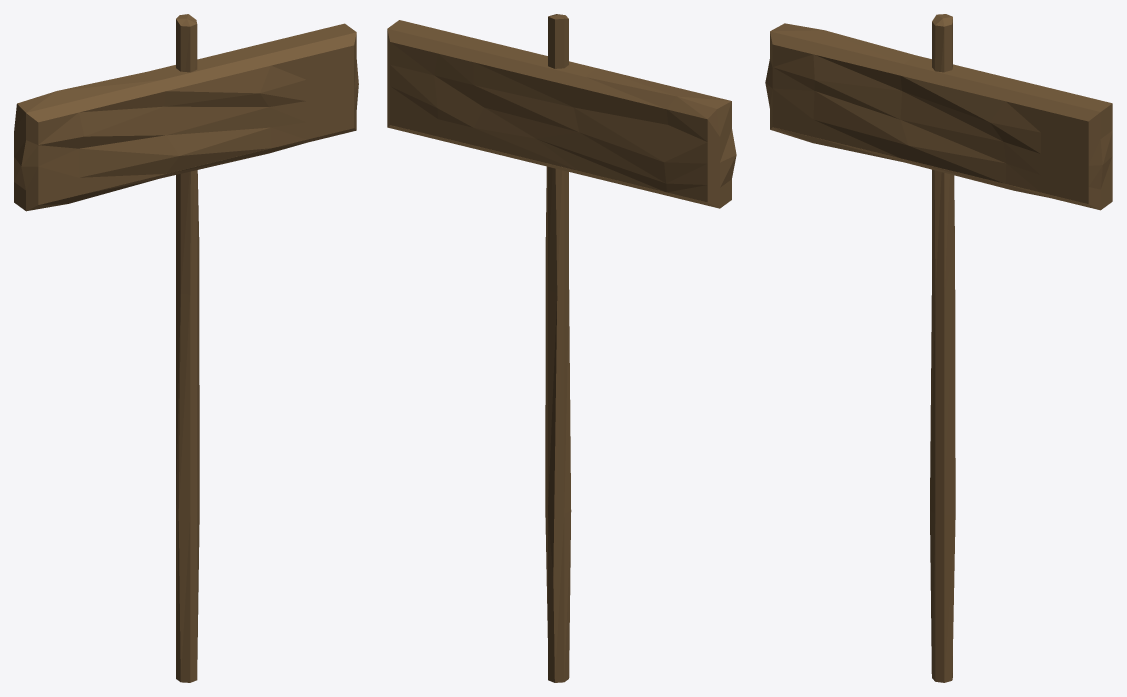
The model's file is Holzschild.fbx.
3 views of the same model, side by side, from view 1: azimuth 30°, elevation 25°; view 2: azimuth 150°, elevation 25°; view 3: azimuth 330°, elevation 25° (orthographic).
Parts seen in each view (by area): view 1: Würfel, Stiel; view 2: Würfel, Stiel; view 3: Würfel, Stiel.
Boxes of the visible parts, box(x1,y1,x2,y2) form: Würfel: box(14, 23, 358, 211); Stiel: box(176, 14, 199, 682); Würfel: box(387, 20, 736, 208); Stiel: box(545, 14, 571, 682); Würfel: box(765, 23, 1112, 210); Stiel: box(930, 14, 955, 682).
Bounding box in the file's own units: 293 × 548 × 39.11.
